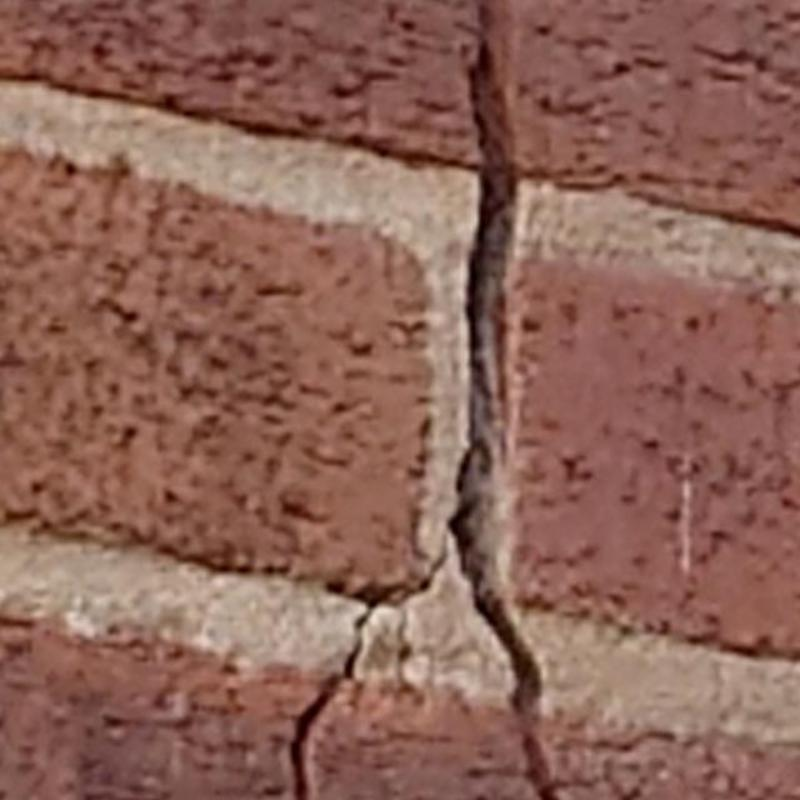crack: (448, 0, 559, 800), (291, 550, 448, 800)
